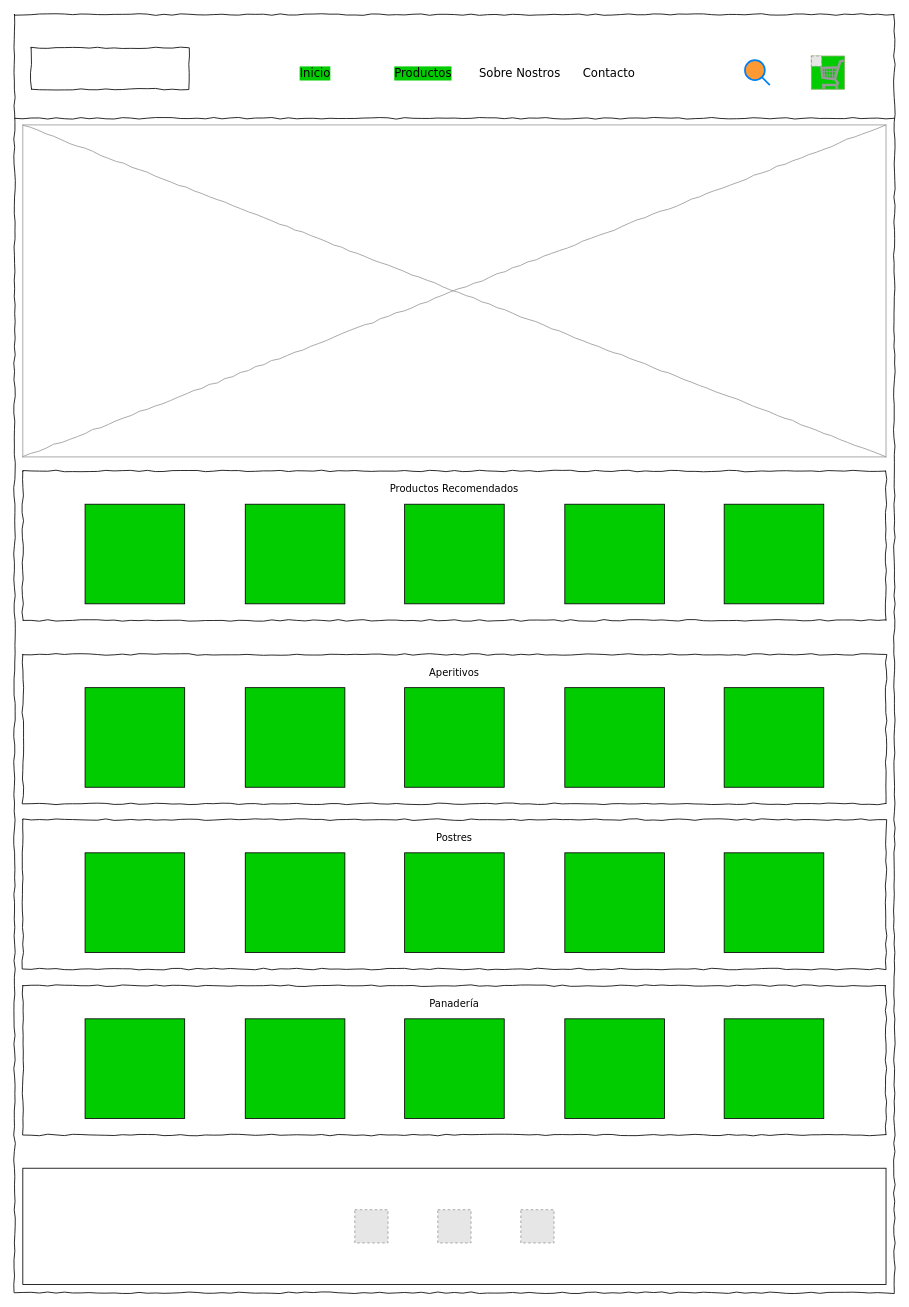
Some shapes in this 909 by 1307 pixel diagram are drawn without their labels. Grey dashed boxes stand in for pictures. Here are the shapes that lost their labels. From the top down, the centre of each, then its label:
At (x=109, y=68): "LOGO".
At (x=454, y=290): "Imagen de bienvenida".
